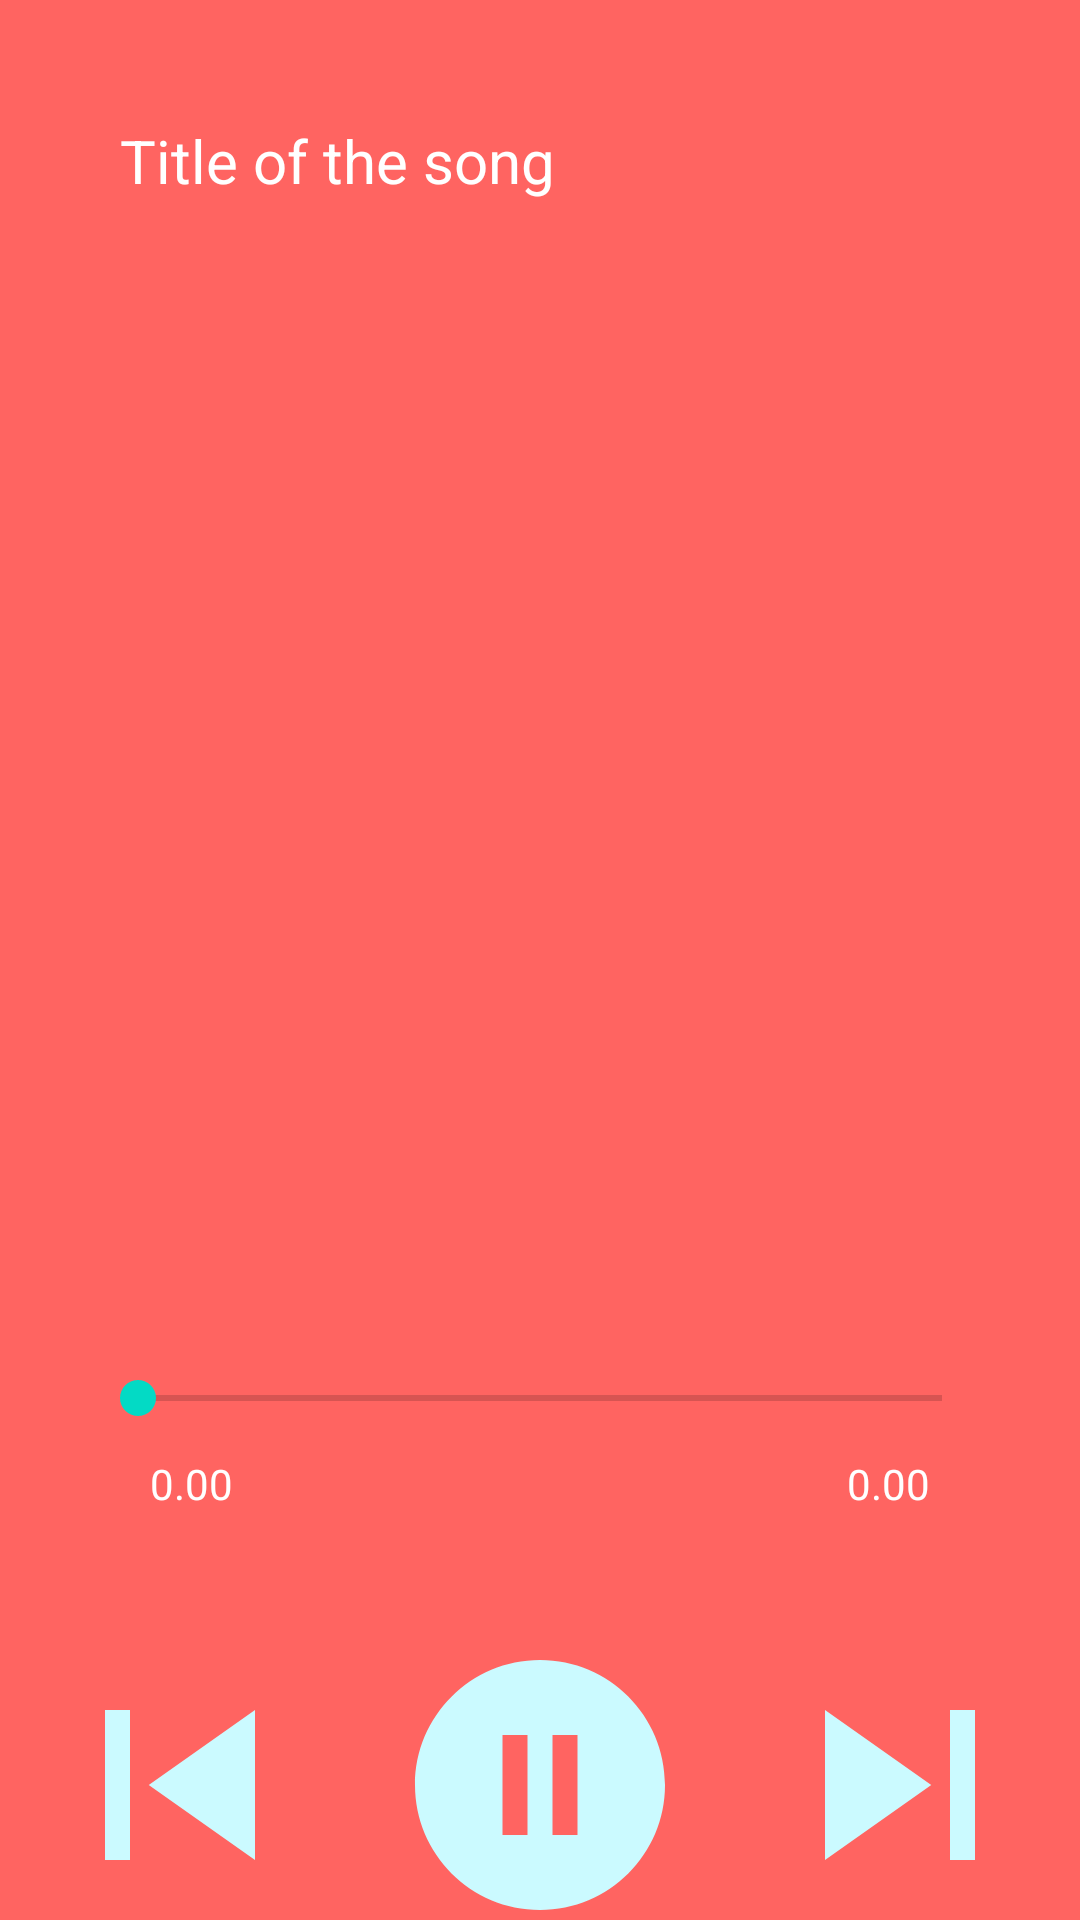

Named icons in this screenshot (1080w x 1920h) and their centers, [x,y]:
next: [900,1785]
pause: [540,1785]
skip previous: [180,1785]
